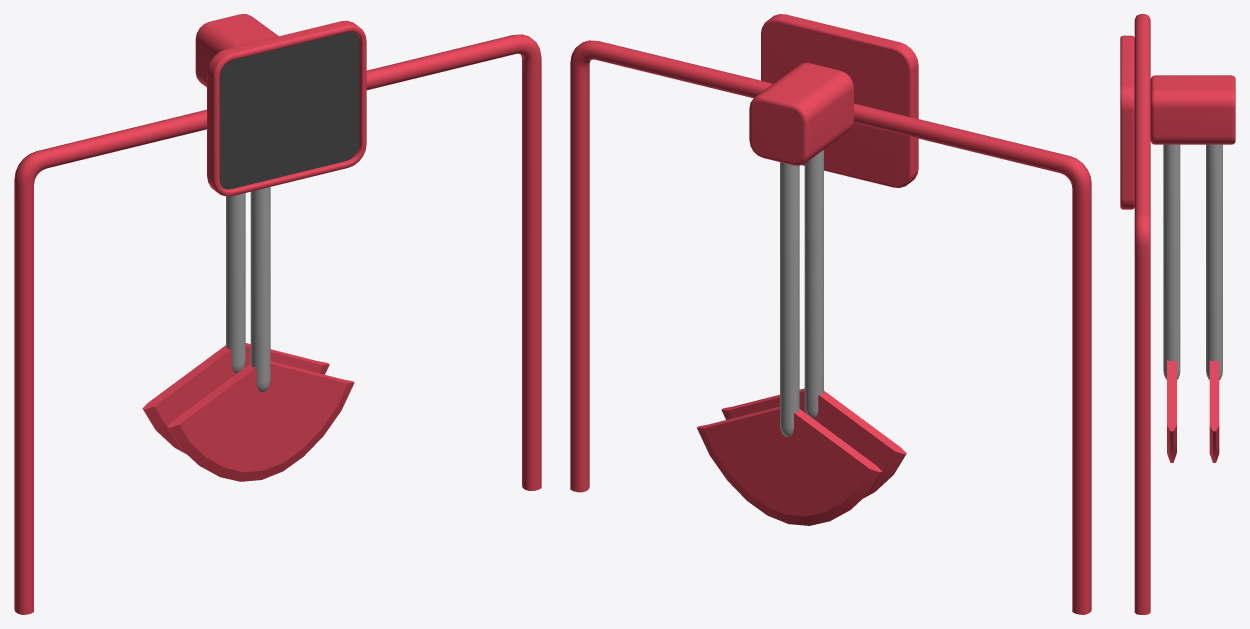
File: OBS_Axel.fbx
3 renders of one model, left to right at view 1: azimuth 30°, elevation 25°; view 2: azimuth 150°, elevation 25°; view 3: azimuth 270°, elevation 25°, orthographic. The views are drawn at different scales.
Parts seen in each view (by area): view 1: OBS_Axel_Screen, OBS_Axel_Steel_Blade_Front, OBS_Axel_Frame_Vertical_R, OBS_Axel_Frame_Vertical_L, OBS_Axel_Frame_Horizonal, OBS_Axel_Frame, OBS_Axel_Steel_Blade_Back, OBS_Axel_Steel_Front, OBS_Axel_Steel_Back, OBS_Axel_Rotator, OBS_Axel_Frame_Corner_R, OBS_Axel_Frame_Corner_L; view 2: OBS_Axel_Frame, OBS_Axel_Steel_Blade_Back, OBS_Axel_Rotator, OBS_Axel_Frame_Vertical_L, OBS_Axel_Frame_Vertical_R, OBS_Axel_Frame_Horizonal, OBS_Axel_Steel_Back, OBS_Axel_Steel_Front, OBS_Axel_Steel_Blade_Front, OBS_Axel_Frame_Corner_R, OBS_Axel_Frame_Corner_L; view 3: OBS_Axel_Frame_Vertical_L, OBS_Axel_Rotator, OBS_Axel_Steel_Front, OBS_Axel_Steel_Back, OBS_Axel_Frame_Horizonal, OBS_Axel_Frame, OBS_Axel_Steel_Blade_Back, OBS_Axel_Steel_Blade_Front, OBS_Axel_Frame_Corner_L.
Part boxes in pixels (x1=…): OBS_Axel_Screen: x1=219, y1=31, x2=359, y2=189; OBS_Axel_Steel_Blade_Front: x1=167, y1=361, x2=354, y2=481; OBS_Axel_Frame_Vertical_R: x1=14, y1=197, x2=33, y2=614; OBS_Axel_Frame_Vertical_L: x1=522, y1=74, x2=541, y2=490; OBS_Axel_Frame_Horizonal: x1=52, y1=38, x2=506, y2=165; OBS_Axel_Frame: x1=207, y1=20, x2=366, y2=196; OBS_Axel_Steel_Blade_Back: x1=142, y1=343, x2=329, y2=453; OBS_Axel_Steel_Front: x1=250, y1=187, x2=270, y2=391; OBS_Axel_Steel_Back: x1=226, y1=193, x2=245, y2=373; OBS_Axel_Rotator: x1=195, y1=14, x2=278, y2=87; OBS_Axel_Frame_Corner_R: x1=14, y1=147, x2=58, y2=202; OBS_Axel_Frame_Corner_L: x1=499, y1=34, x2=541, y2=78; OBS_Axel_Frame: x1=761, y1=14, x2=918, y2=187; OBS_Axel_Steel_Blade_Back: x1=697, y1=406, x2=882, y2=525; OBS_Axel_Rotator: x1=749, y1=63, x2=853, y2=165; OBS_Axel_Frame_Vertical_L: x1=570, y1=79, x2=589, y2=492; OBS_Axel_Frame_Vertical_R: x1=1072, y1=203, x2=1091, y2=614; OBS_Axel_Frame_Horizonal: x1=605, y1=44, x2=1055, y2=170; OBS_Axel_Steel_Back: x1=780, y1=162, x2=799, y2=436; OBS_Axel_Steel_Front: x1=804, y1=150, x2=823, y2=418; OBS_Axel_Steel_Blade_Front: x1=721, y1=388, x2=906, y2=498; OBS_Axel_Frame_Corner_R: x1=1047, y1=152, x2=1091, y2=206; OBS_Axel_Frame_Corner_L: x1=570, y1=40, x2=612, y2=84; OBS_Axel_Frame_Vertical_L: x1=1134, y1=259, x2=1150, y2=614; OBS_Axel_Rotator: x1=1150, y1=75, x2=1235, y2=144; OBS_Axel_Steel_Front: x1=1163, y1=144, x2=1180, y2=379; OBS_Axel_Steel_Back: x1=1206, y1=144, x2=1222, y2=379; OBS_Axel_Frame_Horizonal: x1=1134, y1=22, x2=1150, y2=213; OBS_Axel_Frame: x1=1120, y1=35, x2=1134, y2=209; OBS_Axel_Steel_Blade_Back: x1=1209, y1=360, x2=1219, y2=462; OBS_Axel_Steel_Blade_Front: x1=1167, y1=360, x2=1176, y2=462; OBS_Axel_Frame_Corner_L: x1=1134, y1=209, x2=1150, y2=261.
Size of the model in its own units: 911 by 863 by 204.
